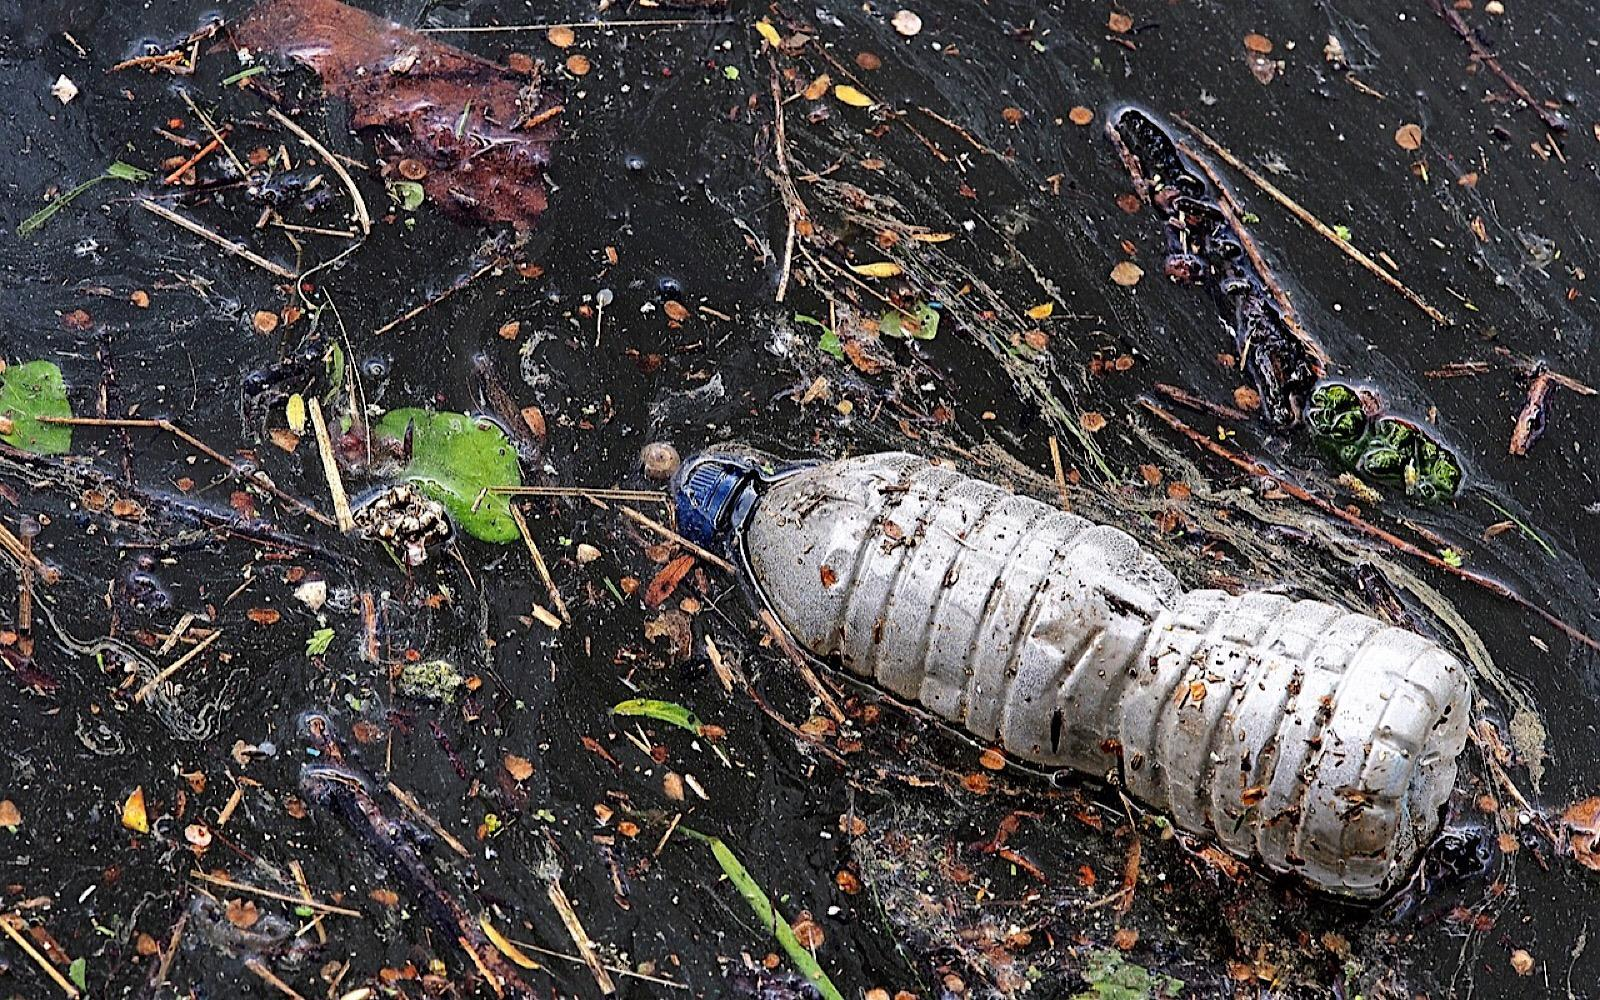bottle: (624, 391, 1531, 925)
